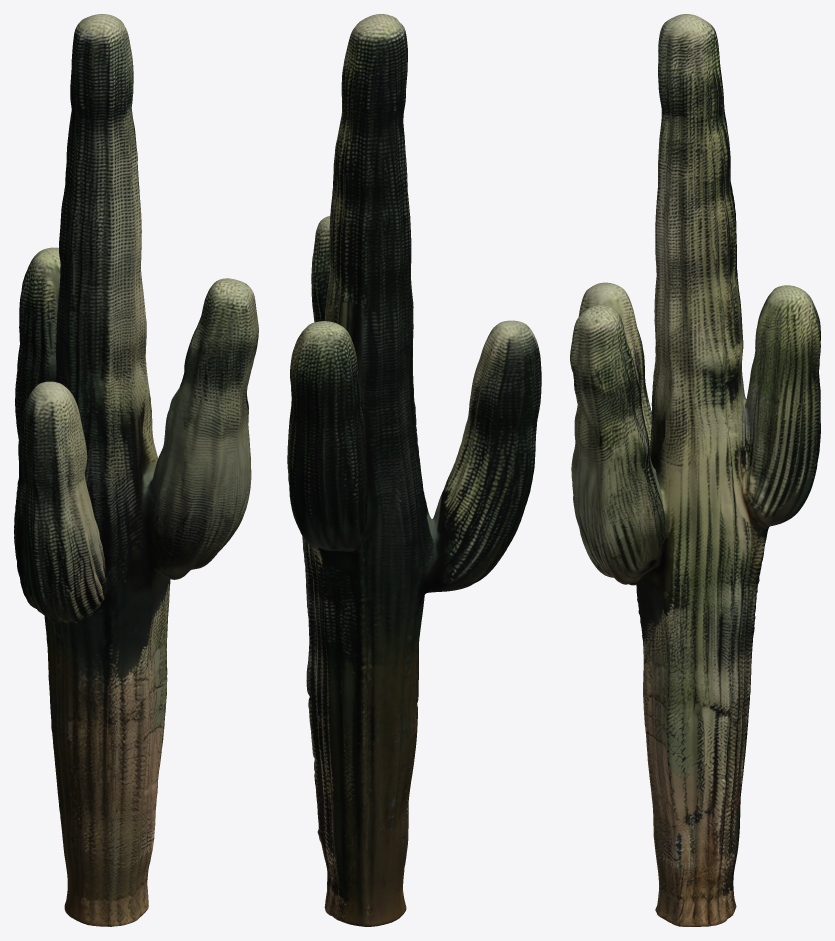
File: TC003_Tripo 3D-2.5.glb
3 views of the same model, side by side, from view 1: azimuth 30°, elevation 25°; view 2: azimuth 150°, elevation 25°; view 3: azimuth 270°, elevation 25° (orthographic).
Visible parts, largest first — view 1: tripo_node_06acb8ae-bf6b-478a-acc4-ec4dfa93b6c3; view 2: tripo_node_06acb8ae-bf6b-478a-acc4-ec4dfa93b6c3; view 3: tripo_node_06acb8ae-bf6b-478a-acc4-ec4dfa93b6c3.
Boxes of the visible parts, bbox=[...] form: tripo_node_06acb8ae-bf6b-478a-acc4-ec4dfa93b6c3: bbox=[14, 14, 258, 926]; tripo_node_06acb8ae-bf6b-478a-acc4-ec4dfa93b6c3: bbox=[287, 14, 541, 926]; tripo_node_06acb8ae-bf6b-478a-acc4-ec4dfa93b6c3: bbox=[570, 14, 820, 926].
Bounding box in the file's own units: 0.2636 × 1 × 0.2555.
Materials: 1 (1 with a texture image).
